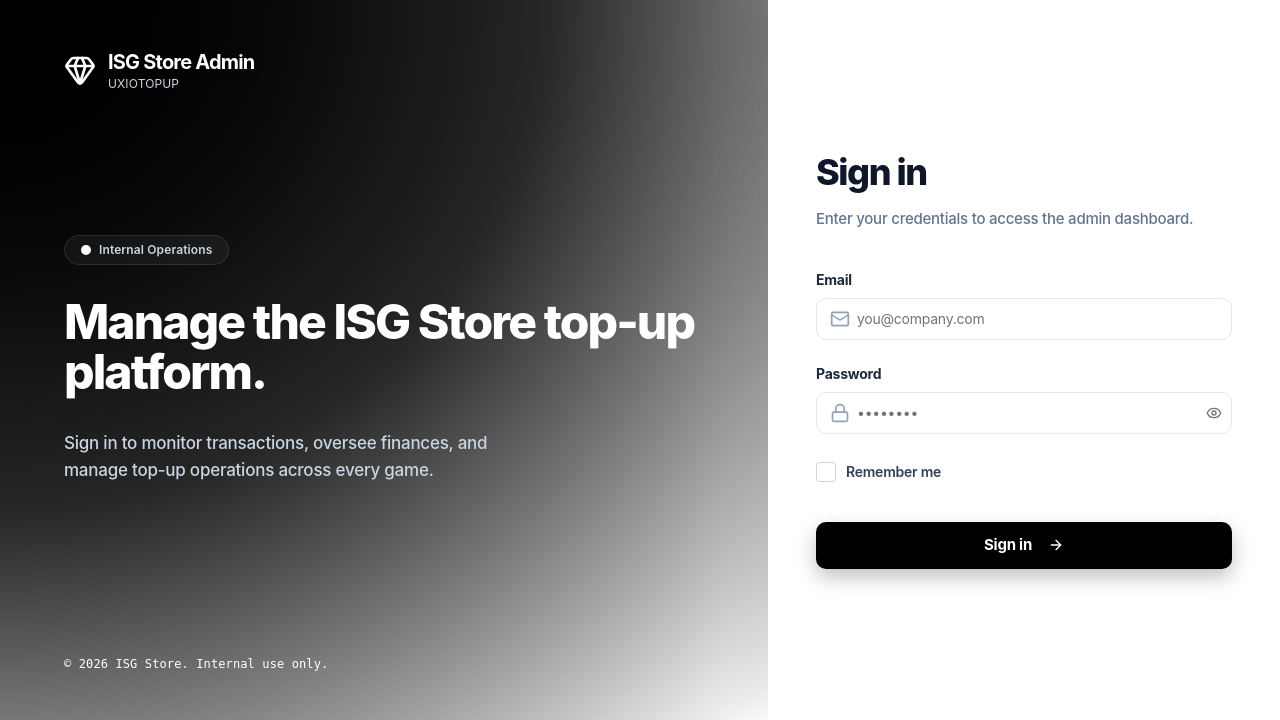
Test case: post-login enrolment › sends an admin who has not enrolled to the enrolment screen, not the dashboard
Type "admin@example.test" into the field labelled "Email" at {"x": 1024, "y": 319}, box [816,298,1232,340]
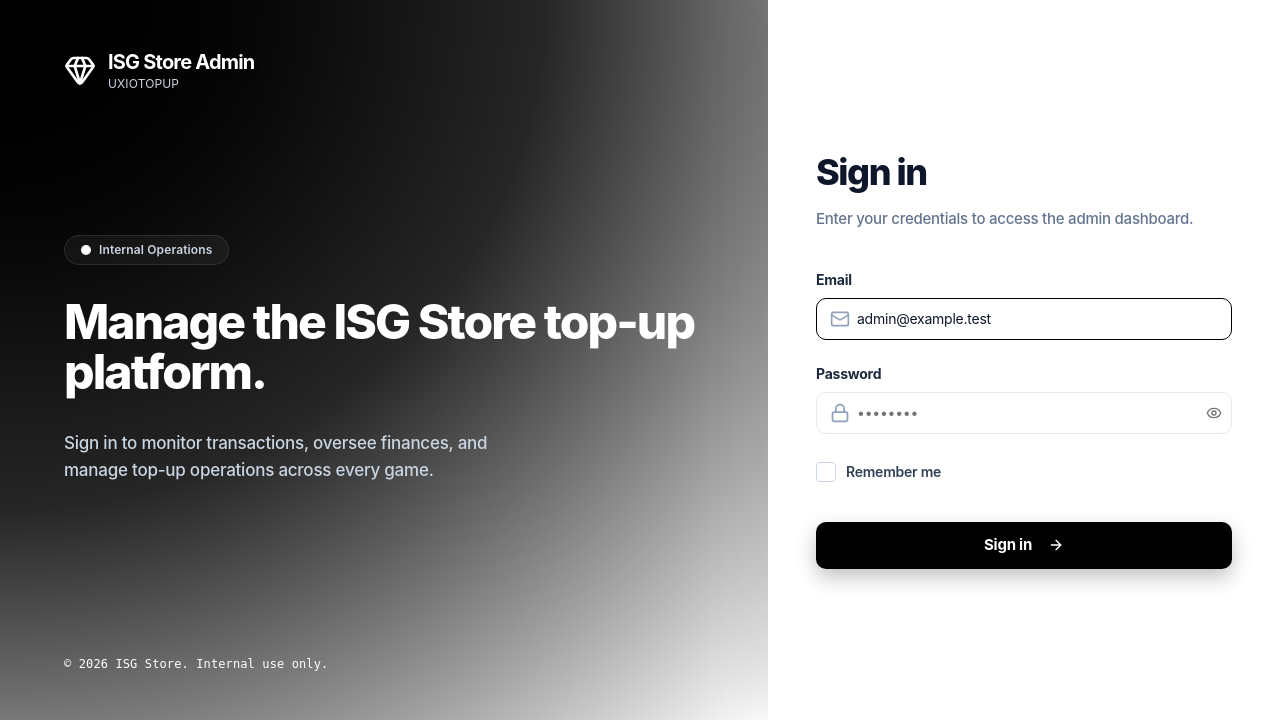
// Exact: the field now has a "Show password" toggle beside it.
Type "secret123" into the password field labelled "Password" at {"x": 1024, "y": 413}, box [816,392,1232,434]
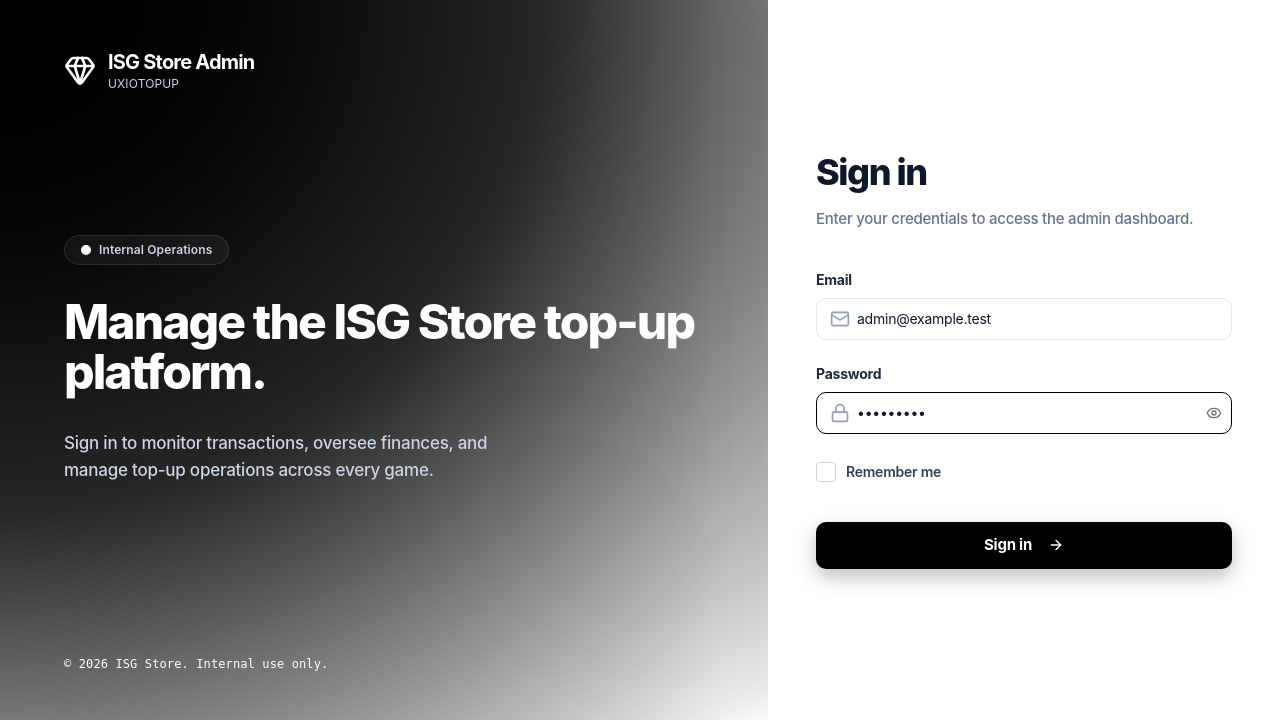
Click the button "Sign in" at {"x": 1024, "y": 545}, box [816,522,1232,568]
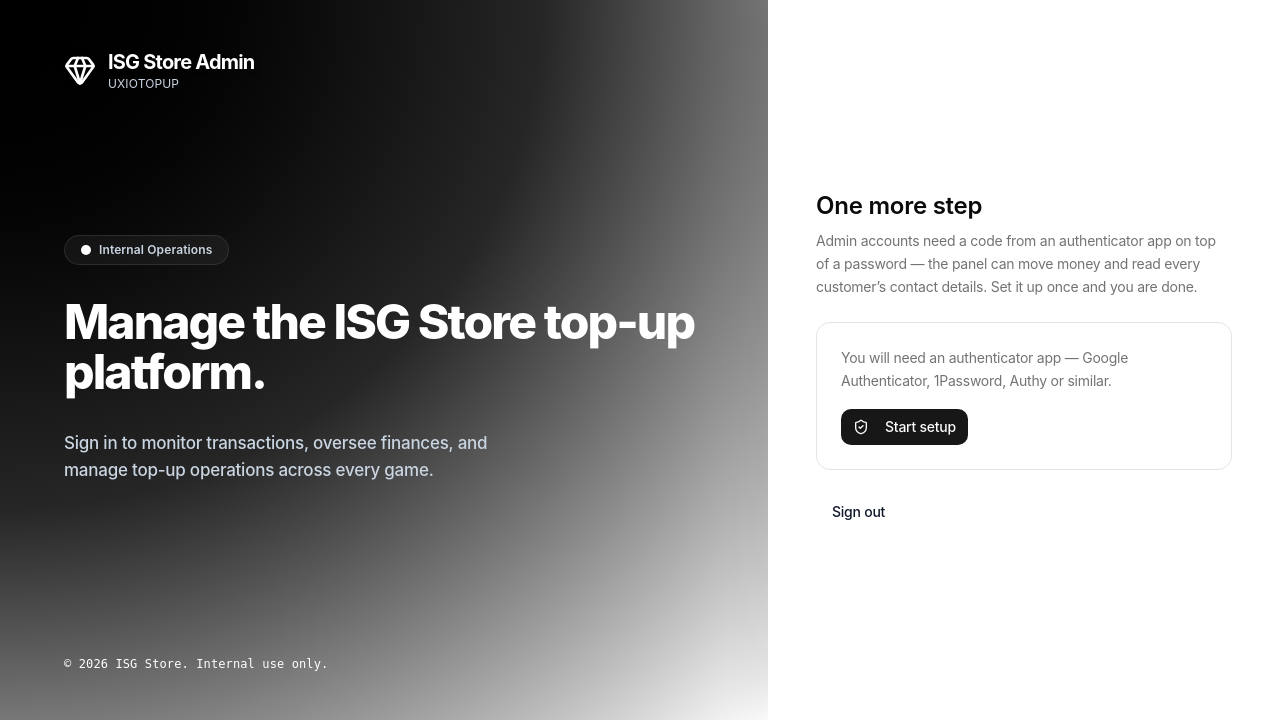
Expected: the heading "One more step" is shown, [816,191,982,220]
